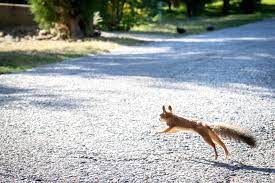squirrel: (157, 105, 257, 160)
